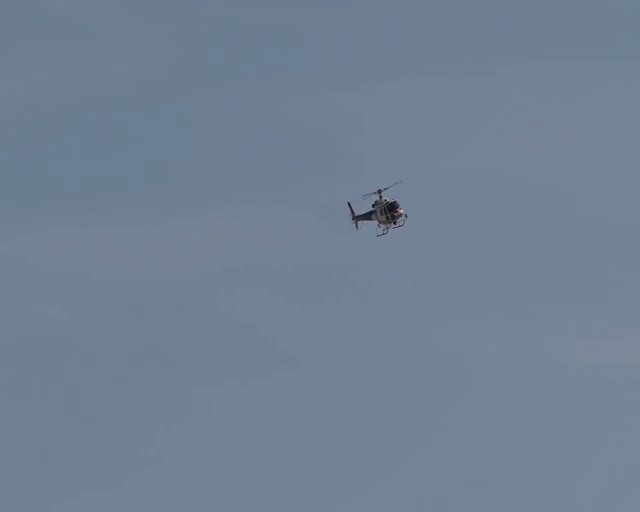HELICOPTER: (347, 178, 410, 237)
